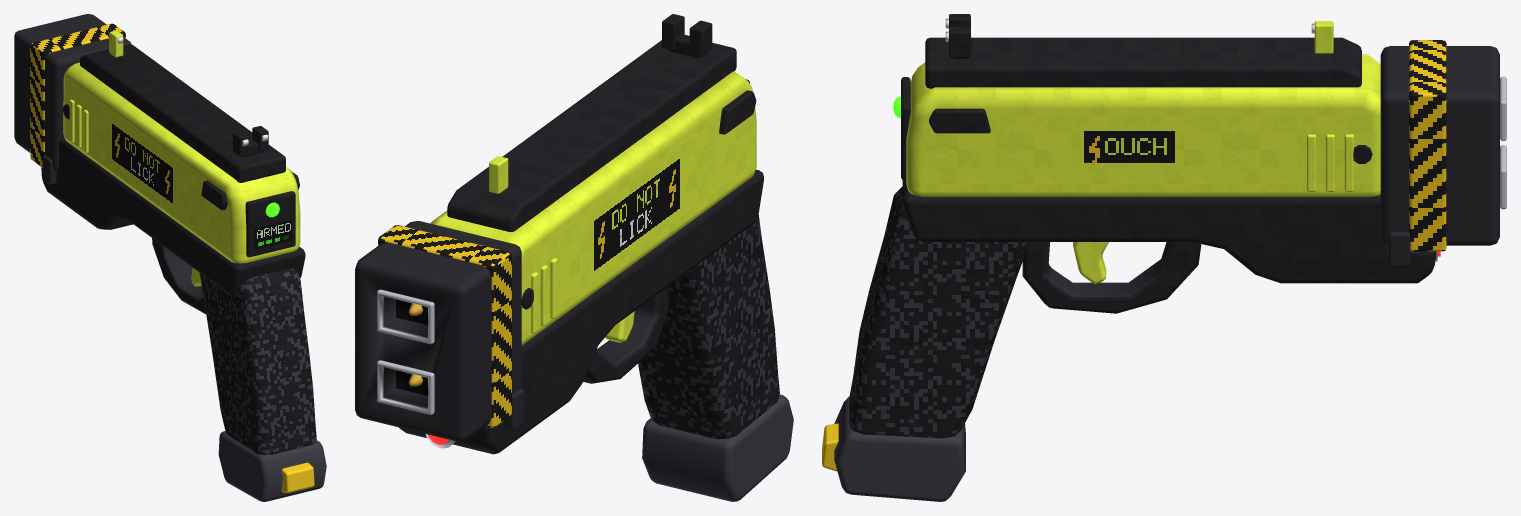
File: w_taser.glb
3 views of the same model, side by side, from view 1: azimuth 30°, elevation 25°; view 2: azimuth 150°, elevation 25°; view 3: azimuth 270°, elevation 25° (orthographic). The views are drawn at different scales.
Parts seen in each view (by area): view 1: tz_body_wzA, tz_body_wzB, tz_body_wzN; view 2: tz_body_wzB, tz_body_wzA, tz_body_wzN; view 3: tz_body_wzB, tz_body_wzA, tz_body_wzN.
Part boxes in pixels (bbox=[...]): tz_body_wzA: bbox=[63, 30, 326, 501]; tz_body_wzB: bbox=[14, 14, 305, 314]; tz_body_wzN: bbox=[111, 37, 314, 492]; tz_body_wzB: bbox=[355, 14, 763, 454]; tz_body_wzA: bbox=[430, 71, 793, 501]; tz_body_wzN: bbox=[428, 155, 681, 444]; tz_body_wzB: bbox=[901, 14, 1506, 313]; tz_body_wzA: bbox=[834, 21, 1380, 501]; tz_body_wzN: bbox=[822, 18, 1440, 471].
Size of the model in its own units: 0.0535 by 0.2025 by 0.2726.
16 materials, 7 textured.
